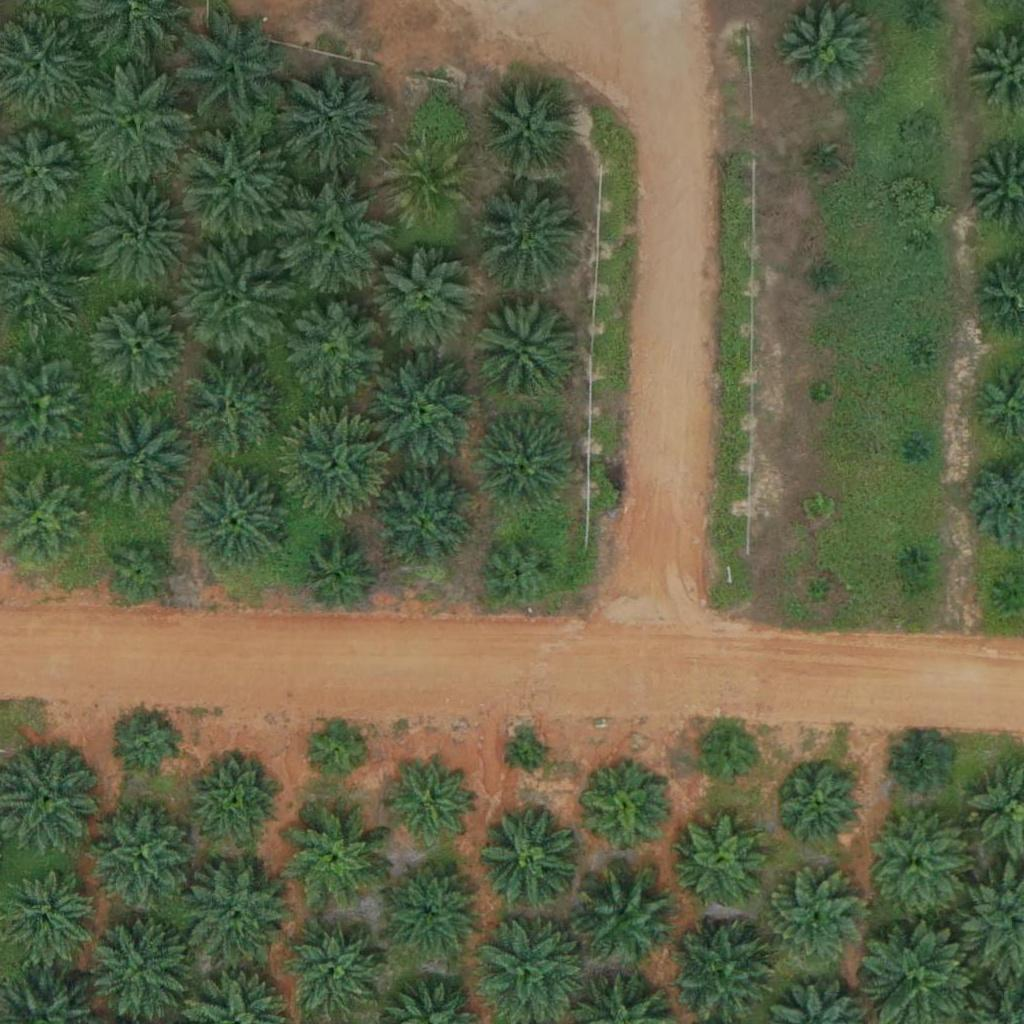Kelapa_Sawit: (280, 64, 393, 178), (278, 180, 391, 294), (178, 15, 291, 129), (367, 353, 480, 466), (178, 121, 290, 235), (280, 414, 392, 527), (475, 179, 587, 292), (175, 246, 287, 359), (78, 68, 190, 181), (473, 910, 585, 1023), (477, 79, 577, 180), (374, 471, 474, 572), (183, 362, 283, 463), (187, 469, 287, 570), (89, 185, 189, 286), (90, 298, 190, 399), (90, 407, 190, 508), (91, 804, 191, 905), (91, 916, 191, 1017), (186, 861, 286, 962), (288, 808, 388, 909), (380, 860, 480, 961), (763, 870, 863, 971), (867, 811, 967, 912), (472, 299, 572, 399), (477, 413, 577, 513), (378, 252, 478, 352), (284, 302, 384, 402), (480, 805, 580, 905), (575, 863, 675, 963), (383, 142, 471, 230), (385, 760, 473, 848), (678, 815, 766, 903), (777, 764, 865, 852), (197, 757, 284, 845), (584, 769, 671, 857), (483, 535, 558, 611), (301, 541, 376, 616), (105, 535, 180, 610), (889, 734, 952, 797), (118, 714, 180, 777), (304, 715, 366, 778), (699, 727, 761, 790), (903, 117, 941, 155), (511, 735, 548, 773), (916, 2, 941, 27), (912, 232, 937, 257), (906, 348, 931, 373), (812, 152, 837, 177), (812, 265, 837, 290), (808, 383, 833, 408), (804, 495, 829, 520), (807, 579, 832, 604), (907, 437, 932, 462), (900, 547, 925, 572)
